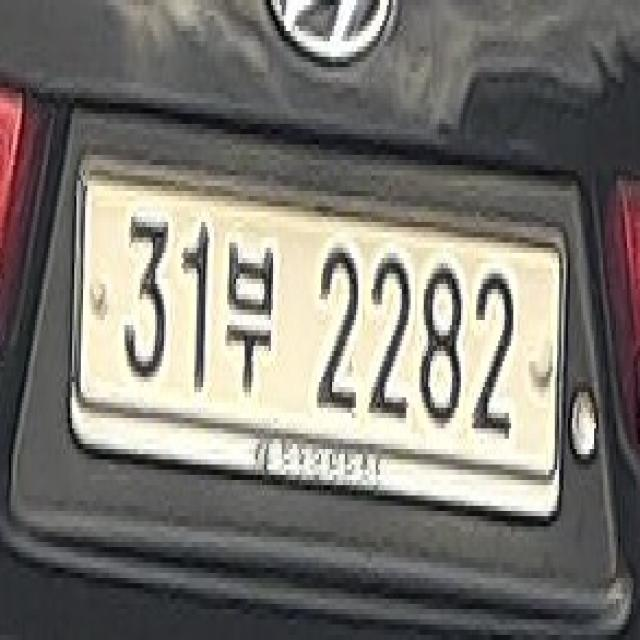1: (183, 222, 212, 397)
2: (312, 248, 358, 418), (367, 248, 411, 423), (474, 263, 515, 439)
3: (120, 196, 173, 387)
8: (417, 253, 463, 428)
bu: (223, 232, 273, 398)
license_plate: (76, 170, 562, 485)
